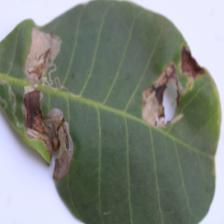leaf miner: (134, 44, 210, 130), (22, 87, 73, 181), (18, 29, 71, 91)
